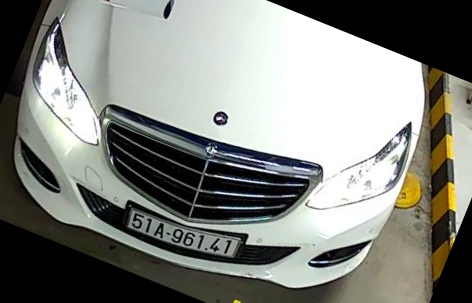plate: (125, 199, 253, 272)
